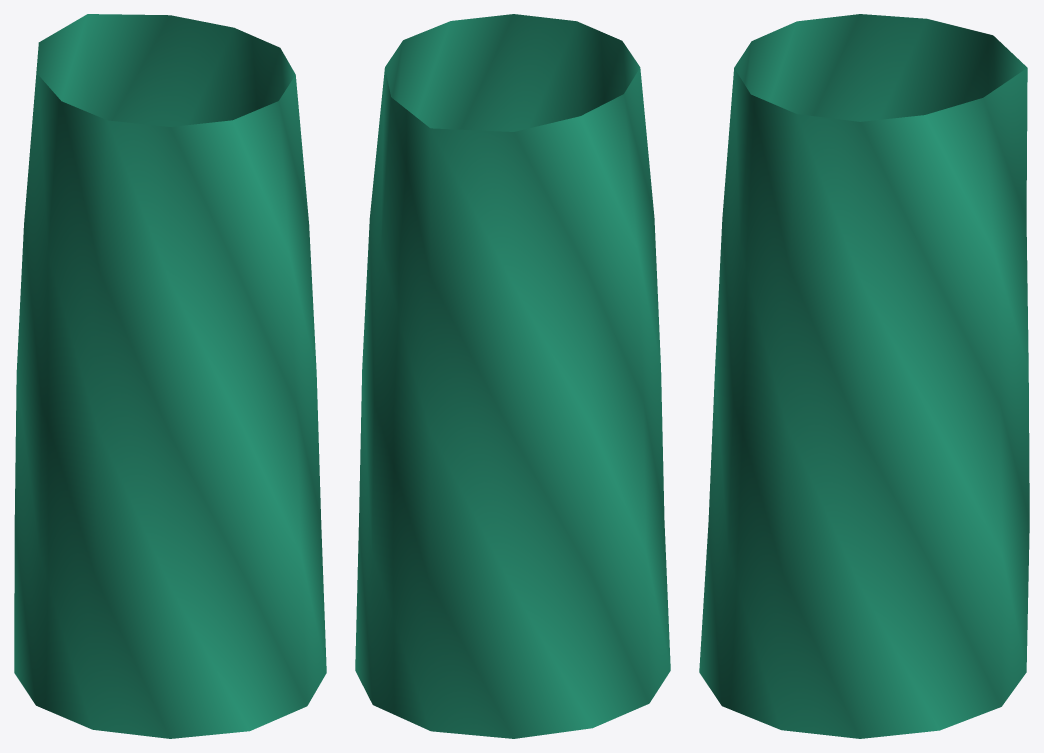
The model's file is mythril_armor_greave.R.glb.
3 renders of one model, left to right at view 1: azimuth 30°, elevation 25°; view 2: azimuth 150°, elevation 25°; view 3: azimuth 270°, elevation 25°, orthographic.
Visible parts, largest first — view 1: mythril_armor_greave.R; view 2: mythril_armor_greave.R; view 3: mythril_armor_greave.R.
Part boxes in pixels (box(x1,y1,x2,y2)): mythril_armor_greave.R: box(14, 14, 326, 738); mythril_armor_greave.R: box(355, 14, 670, 738); mythril_armor_greave.R: box(699, 14, 1029, 738).
Size of the model in its own units: 0.1776 by 0.3767 by 0.1866.
